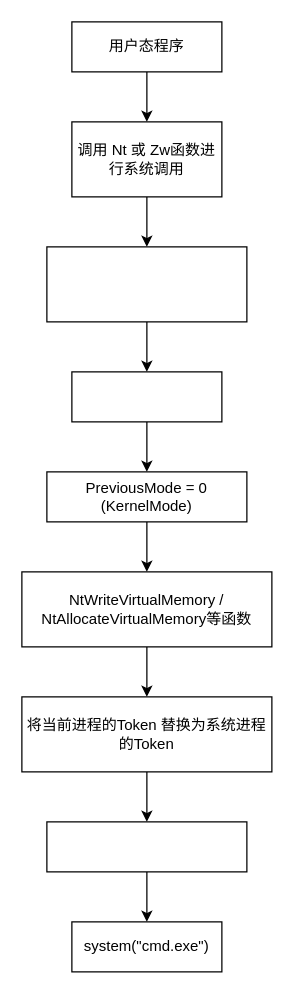
Image size: 294x994. Some labels were removed from this diagram. Here are the shapes that lost their labels. From the top down, the centre of each, then its label:
(146,284): 系统切换到内核模式 PreviousMode = 1 (UserMode)
(146,396): 触发漏洞进行越界写0
(146,846): 恢复 PreviousMode 为 UserMode
